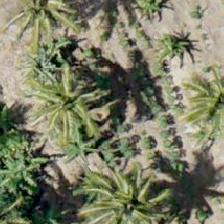Kelapa_Sawit: (23, 62, 113, 152), (82, 162, 173, 223), (0, 0, 85, 55), (177, 59, 223, 150)
